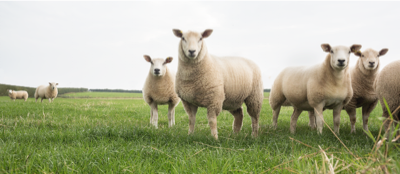koyun: (172, 29, 263, 140), (269, 44, 361, 135), (352, 46, 388, 139), (141, 53, 181, 129), (35, 81, 58, 103), (7, 89, 29, 102)
